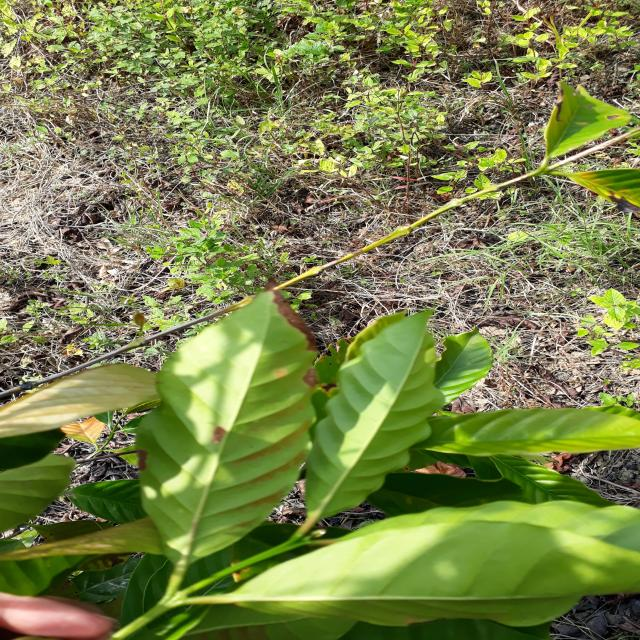Plaga-AranaRoja: (134, 292, 320, 570)
